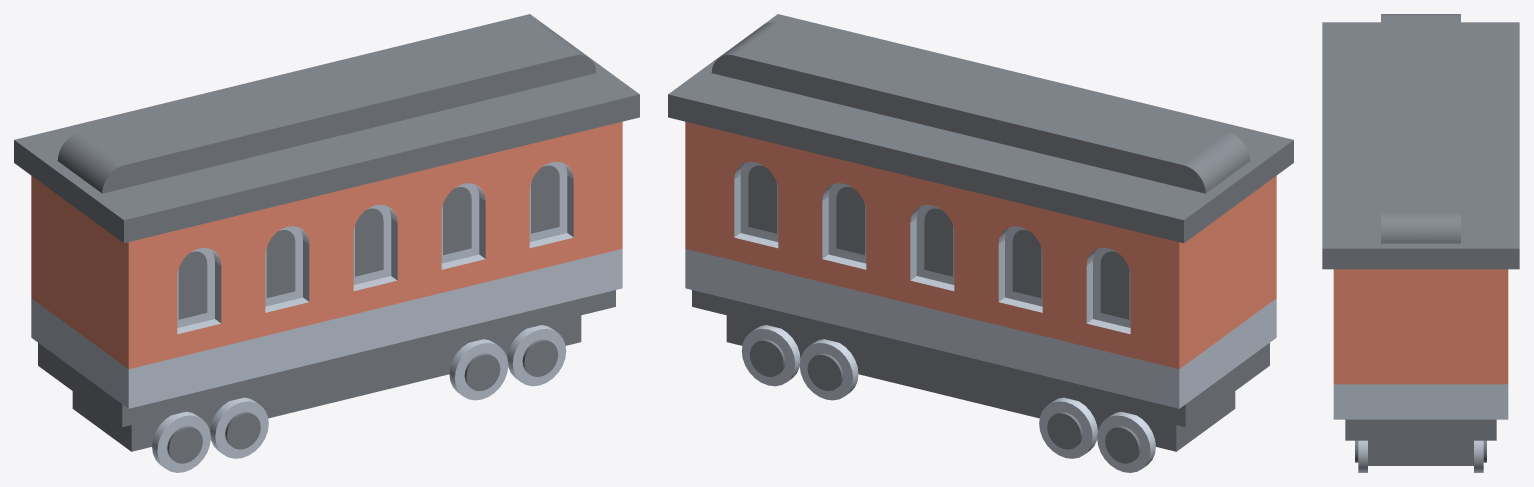
Rendered from trainWagon.glb.
3 views of the same model, side by side, from view 1: azimuth 30°, elevation 25°; view 2: azimuth 150°, elevation 25°; view 3: azimuth 270°, elevation 25° (orthographic). The views are drawn at different scales.
Parts seen in each view (by area): view 1: trainWagon(Clone), wheel (×2); view 2: trainWagon(Clone), wheel (×2); view 3: trainWagon(Clone), wheel.
Boxes of the visible parts, x1,y1,x2,y2 form: trainWagon(Clone): (14,14,639,451); wheel (×2): (152,325,566,472); trainWagon(Clone): (668,14,1293,451); wheel (×2): (741,325,1155,472); trainWagon(Clone): (1322,14,1519,465); wheel: (1355,440,1486,472).
Size of the model in its own units: 0.4684 by 0.2684 by 0.1727.
